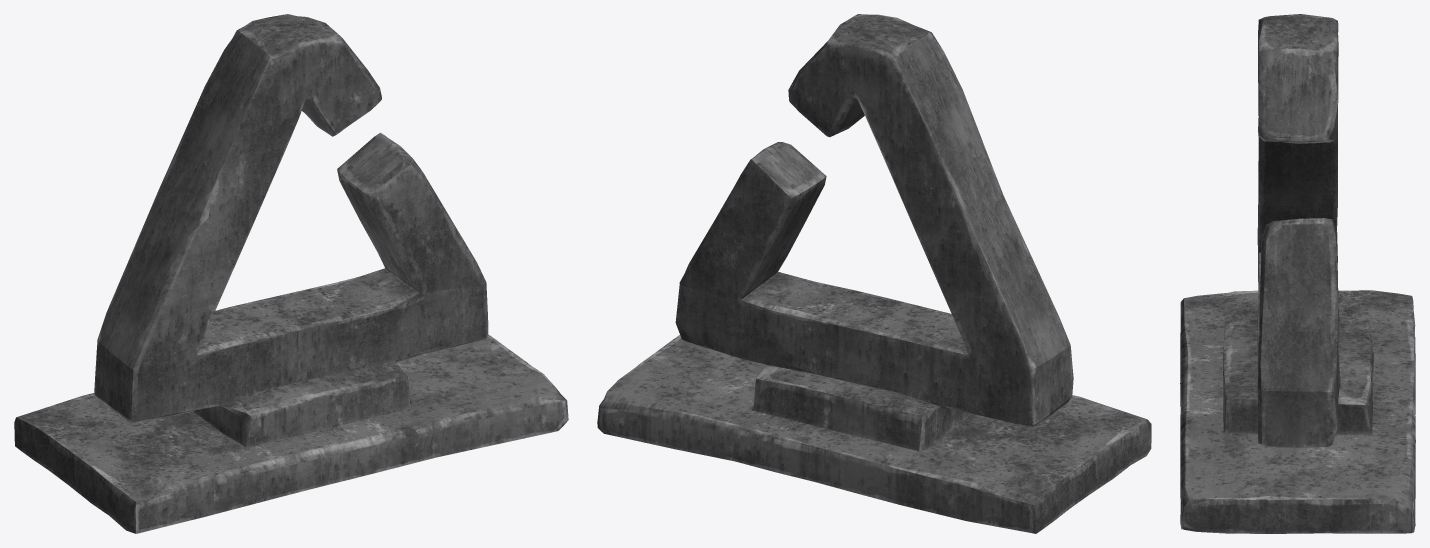
The model's file is monument.obj.
The picture shows the model from 3 angles, left to right: view 1: azimuth 30°, elevation 25°; view 2: azimuth 150°, elevation 25°; view 3: azimuth 270°, elevation 25°; orthographic projection. The views are drawn at different scales.
Visible parts, largest first — view 1: monument; view 2: monument; view 3: monument.
Part boxes in pixels (x1,y1,x2,y2): monument: (14, 14, 568, 533); monument: (597, 14, 1151, 533); monument: (1180, 14, 1415, 533).
Size of the model in its own units: 6.1 by 5.5 by 2.91.
Materials: 1 (1 with a texture image).
